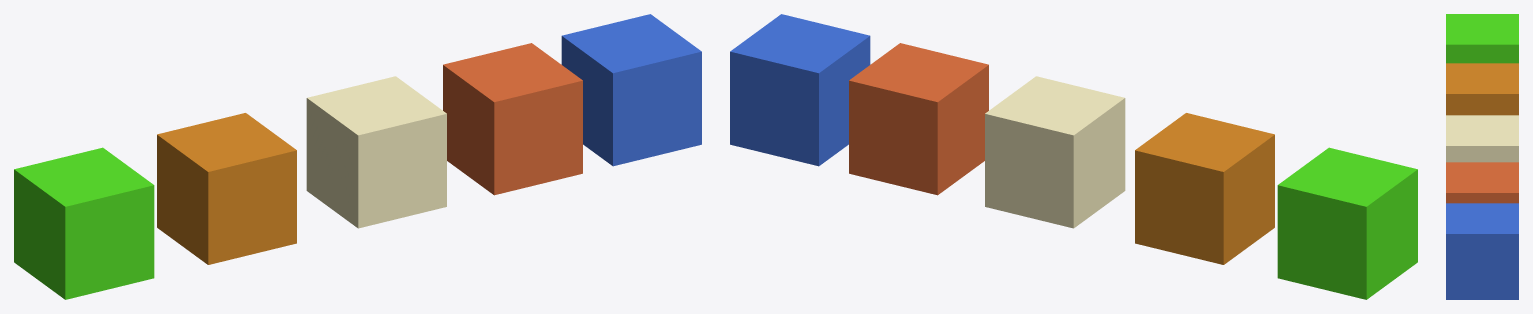
Rendered from paredes.fbx.
The picture shows the model from 3 angles, left to right: view 1: azimuth 30°, elevation 25°; view 2: azimuth 150°, elevation 25°; view 3: azimuth 270°, elevation 25°; orthographic projection. The views are drawn at different scales.
Parts seen in each view (by area): view 1: Cube, Cube.002, Cube.001, Cube.003, Cube.004; view 2: Cube, Cube.002, Cube.001, Cube.003, Cube.004; view 3: Cube.004, Cube.001, Cube, Cube.002, Cube.003.
Part boxes in pixels (x1=…): Cube: x1=14, y1=147, x2=154, y2=299; Cube.002: x1=306, y1=76, x2=446, y2=228; Cube.001: x1=157, y1=113, x2=296, y2=264; Cube.003: x1=443, y1=43, x2=582, y2=195; Cube.004: x1=561, y1=14, x2=701, y2=166; Cube: x1=1277, y1=147, x2=1417, y2=299; Cube.002: x1=985, y1=76, x2=1125, y2=228; Cube.001: x1=1135, y1=113, x2=1274, y2=264; Cube.003: x1=849, y1=43, x2=988, y2=195; Cube.004: x1=730, y1=14, x2=870, y2=166; Cube.004: x1=1446, y1=203, x2=1518, y2=299; Cube.001: x1=1446, y1=63, x2=1518, y2=115; Cube: x1=1446, y1=14, x2=1518, y2=63; Cube.002: x1=1446, y1=115, x2=1518, y2=162; Cube.003: x1=1446, y1=162, x2=1518, y2=203.
Size of the model in its own units: 1431 by 200 by 200.
